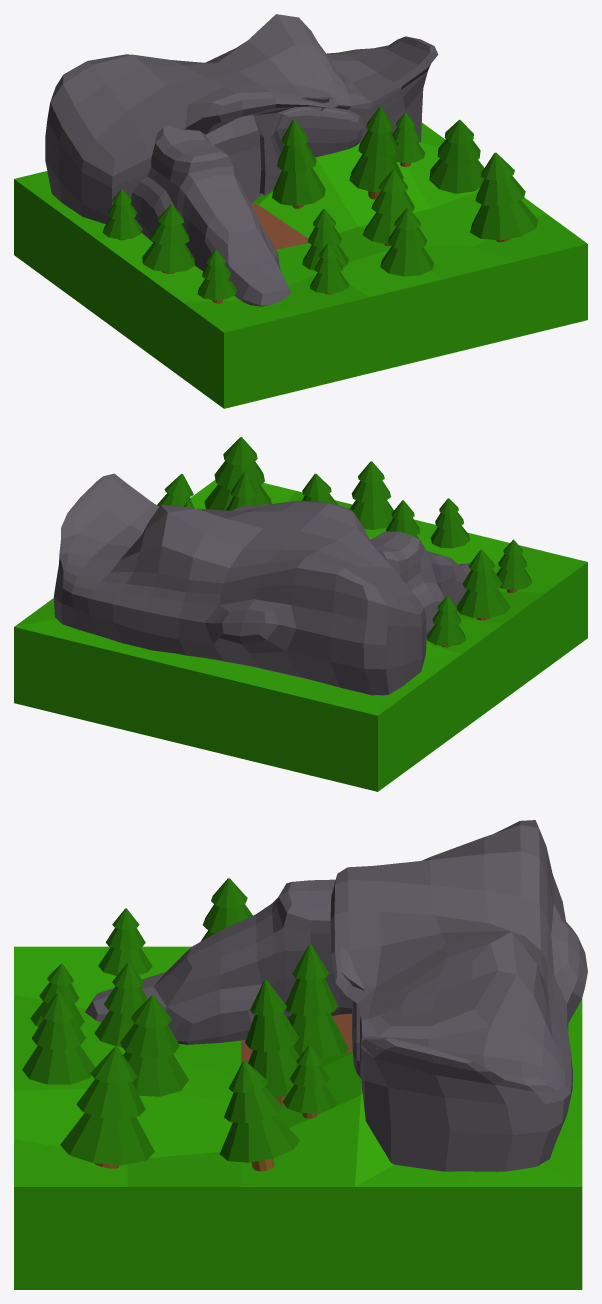
Rendered from grotte_001.fbx.
The picture shows the model from 3 angles, top to bottom: view 1: azimuth 30°, elevation 25°; view 2: azimuth 150°, elevation 25°; view 3: azimuth 270°, elevation 25°; orthographic projection. The views are drawn at different scales.
Visible parts, largest first — view 1: sol, grotte, grotte.001, Cylinder.011, Cylinder.001, Cylinder.003, Cylinder.002, Cylinder.012, Cylinder.010, Cylinder.009, Cylinder.004, Cylinder.007 (+3 smaller); view 2: sol, grotte, grotte.001, Cylinder.011, Cylinder.012, Cylinder.010, Cylinder.006, Cylinder.008, Cylinder.007, Cylinder.004, Cylinder.003, Cylinder.002 (+1 smaller); view 3: sol, grotte, grotte.001, Cylinder.011, Cylinder.003, Cylinder.009, Cylinder.001, Cylinder.010, Cylinder.002, Cylinder.004, Cylinder.005, Cylinder.007 (+2 smaller).
Boxes of the visible parts, bbox=[...] form: sol: bbox=[14, 122, 587, 408]; grotte: bbox=[45, 14, 438, 223]; grotte.001: bbox=[130, 125, 290, 306]; Cylinder.011: bbox=[470, 152, 538, 242]; Cylinder.001: bbox=[272, 119, 325, 208]; Cylinder.003: bbox=[429, 119, 484, 193]; Cylinder.002: bbox=[349, 106, 403, 199]; Cylinder.012: bbox=[142, 204, 194, 273]; Cylinder.010: bbox=[380, 208, 433, 276]; Cylinder.009: bbox=[363, 169, 414, 245]; Cylinder.004: bbox=[302, 208, 348, 270]; Cylinder.007: bbox=[197, 250, 236, 303]; sol: bbox=[14, 480, 587, 791]; grotte: bbox=[53, 473, 426, 695]; grotte.001: bbox=[370, 531, 470, 640]; Cylinder.011: bbox=[204, 437, 271, 510]; Cylinder.012: bbox=[456, 549, 510, 620]; Cylinder.010: bbox=[350, 461, 393, 529]; Cylinder.006: bbox=[430, 498, 469, 548]; Cylinder.008: bbox=[426, 596, 465, 647]; Cylinder.007: bbox=[496, 539, 531, 592]; Cylinder.004: bbox=[386, 500, 420, 538]; Cylinder.003: bbox=[157, 474, 193, 507]; Cylinder.002: bbox=[226, 471, 257, 510]; sol: bbox=[14, 946, 582, 1289]; grotte: bbox=[330, 820, 587, 1171]; grotte.001: bbox=[85, 879, 352, 1044]; Cylinder.011: bbox=[60, 1046, 154, 1168]; Cylinder.003: bbox=[220, 1060, 299, 1171]; Cylinder.009: bbox=[120, 995, 188, 1096]; Cylinder.001: bbox=[285, 944, 348, 1059]; Cylinder.010: bbox=[22, 992, 95, 1084]; Cylinder.002: bbox=[245, 979, 299, 1107]; Cylinder.004: bbox=[94, 962, 147, 1047]; Cylinder.005: bbox=[282, 1045, 336, 1118]; Cylinder.007: bbox=[98, 908, 152, 975].
Size of the model in its own units: 200 by 106 by 202.
